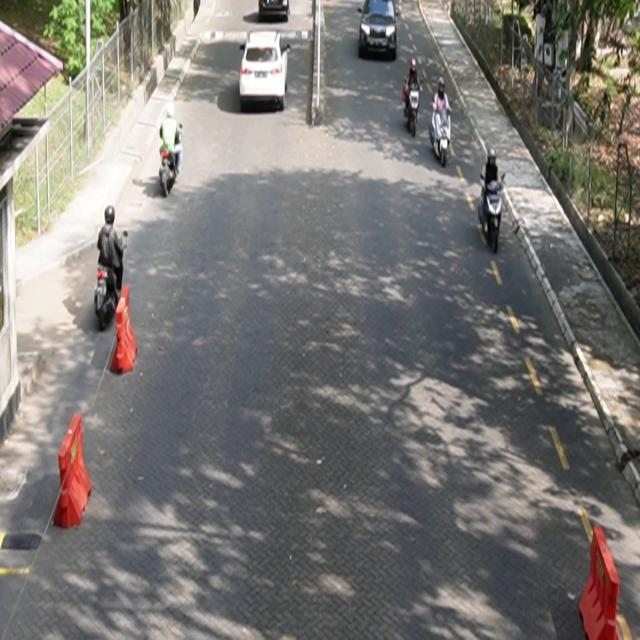car: (240, 30, 292, 112), (358, 1, 398, 61), (259, 1, 291, 21)
